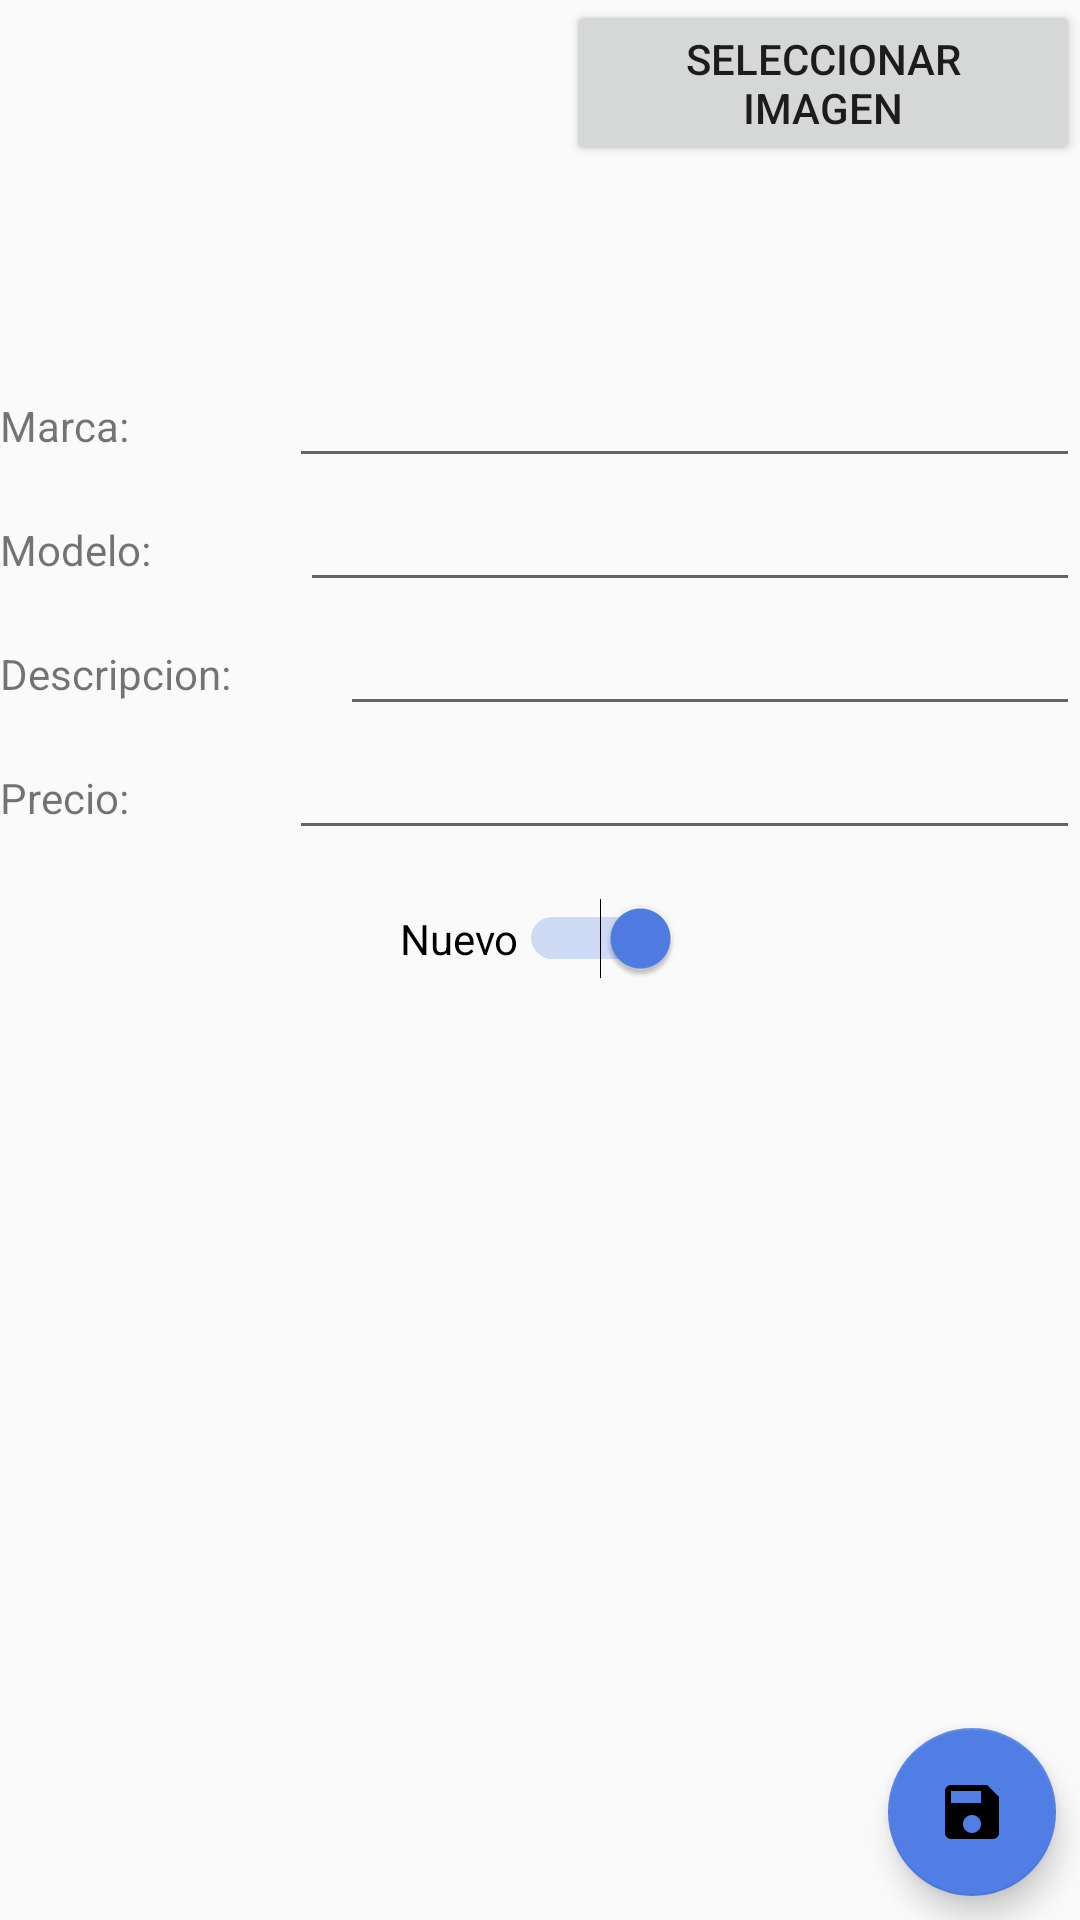

Where to tap for icons on this 1080×1920 app screen, as [x,y]:
save: [972,1812]
